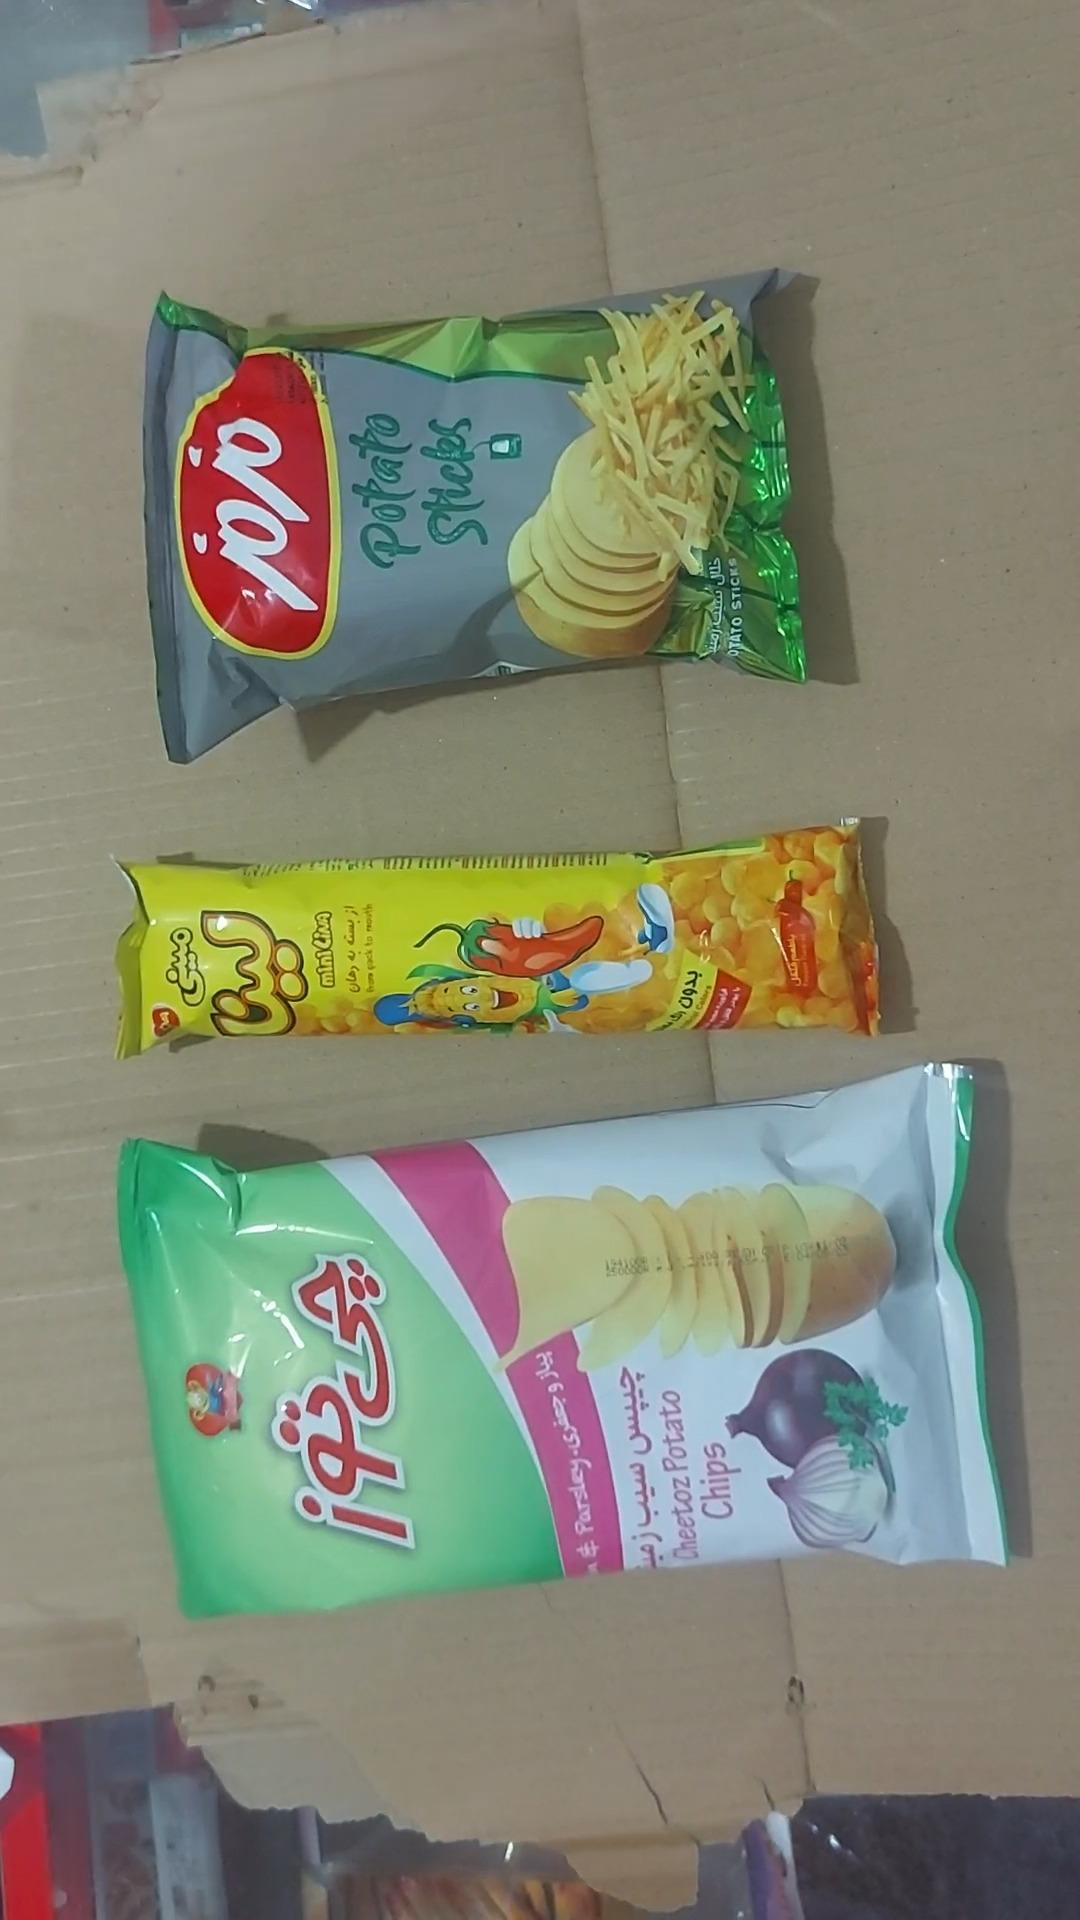Cheetoz onion and parsley chips: (119, 1065, 1007, 1618)
Maz Maz potato sticks: (142, 277, 804, 761)
Mini Lina: (116, 824, 878, 1058)
